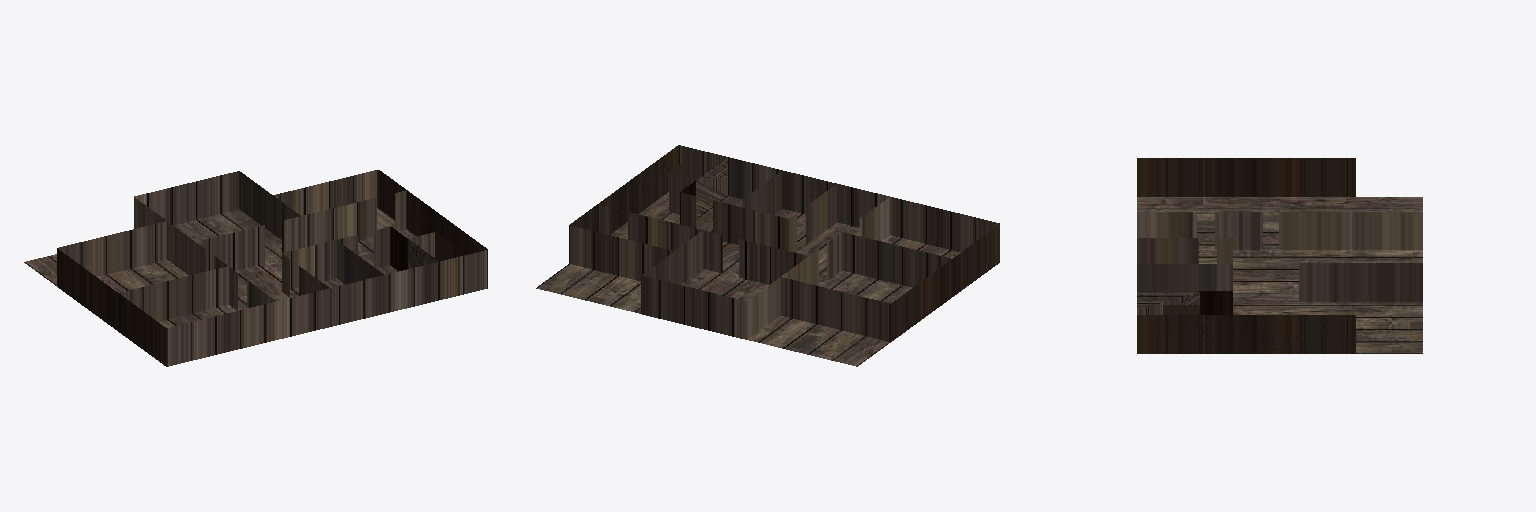
3 views of the same model, side by side, from view 1: azimuth 30°, elevation 25°; view 2: azimuth 150°, elevation 25°; view 3: azimuth 270°, elevation 25° (orthographic).
Visible parts, largest first — view 1: map_outline_map_farmhouse_bleasdale_layer_middle_outline, map_background_map_farmhouse_bleasdale_layer_middle_background; view 2: map_outline_map_farmhouse_bleasdale_layer_middle_outline, map_background_map_farmhouse_bleasdale_layer_middle_background; view 3: map_outline_map_farmhouse_bleasdale_layer_middle_outline, map_background_map_farmhouse_bleasdale_layer_middle_background.
Boxes of the visible parts, x1,y1,x2,y2 form: map_outline_map_farmhouse_bleasdale_layer_middle_outline: [57, 170, 487, 366]; map_background_map_farmhouse_bleasdale_layer_middle_background: [24, 208, 416, 327]; map_outline_map_farmhouse_bleasdale_layer_middle_outline: [569, 145, 999, 341]; map_background_map_farmhouse_bleasdale_layer_middle_background: [536, 191, 960, 366]; map_outline_map_farmhouse_bleasdale_layer_middle_outline: [1137, 158, 1422, 353]; map_background_map_farmhouse_bleasdale_layer_middle_background: [1137, 197, 1422, 353].
Size of the model in its own units: 1.3 by 0.1497 by 1.
Materials: 2 (1 with a texture image).